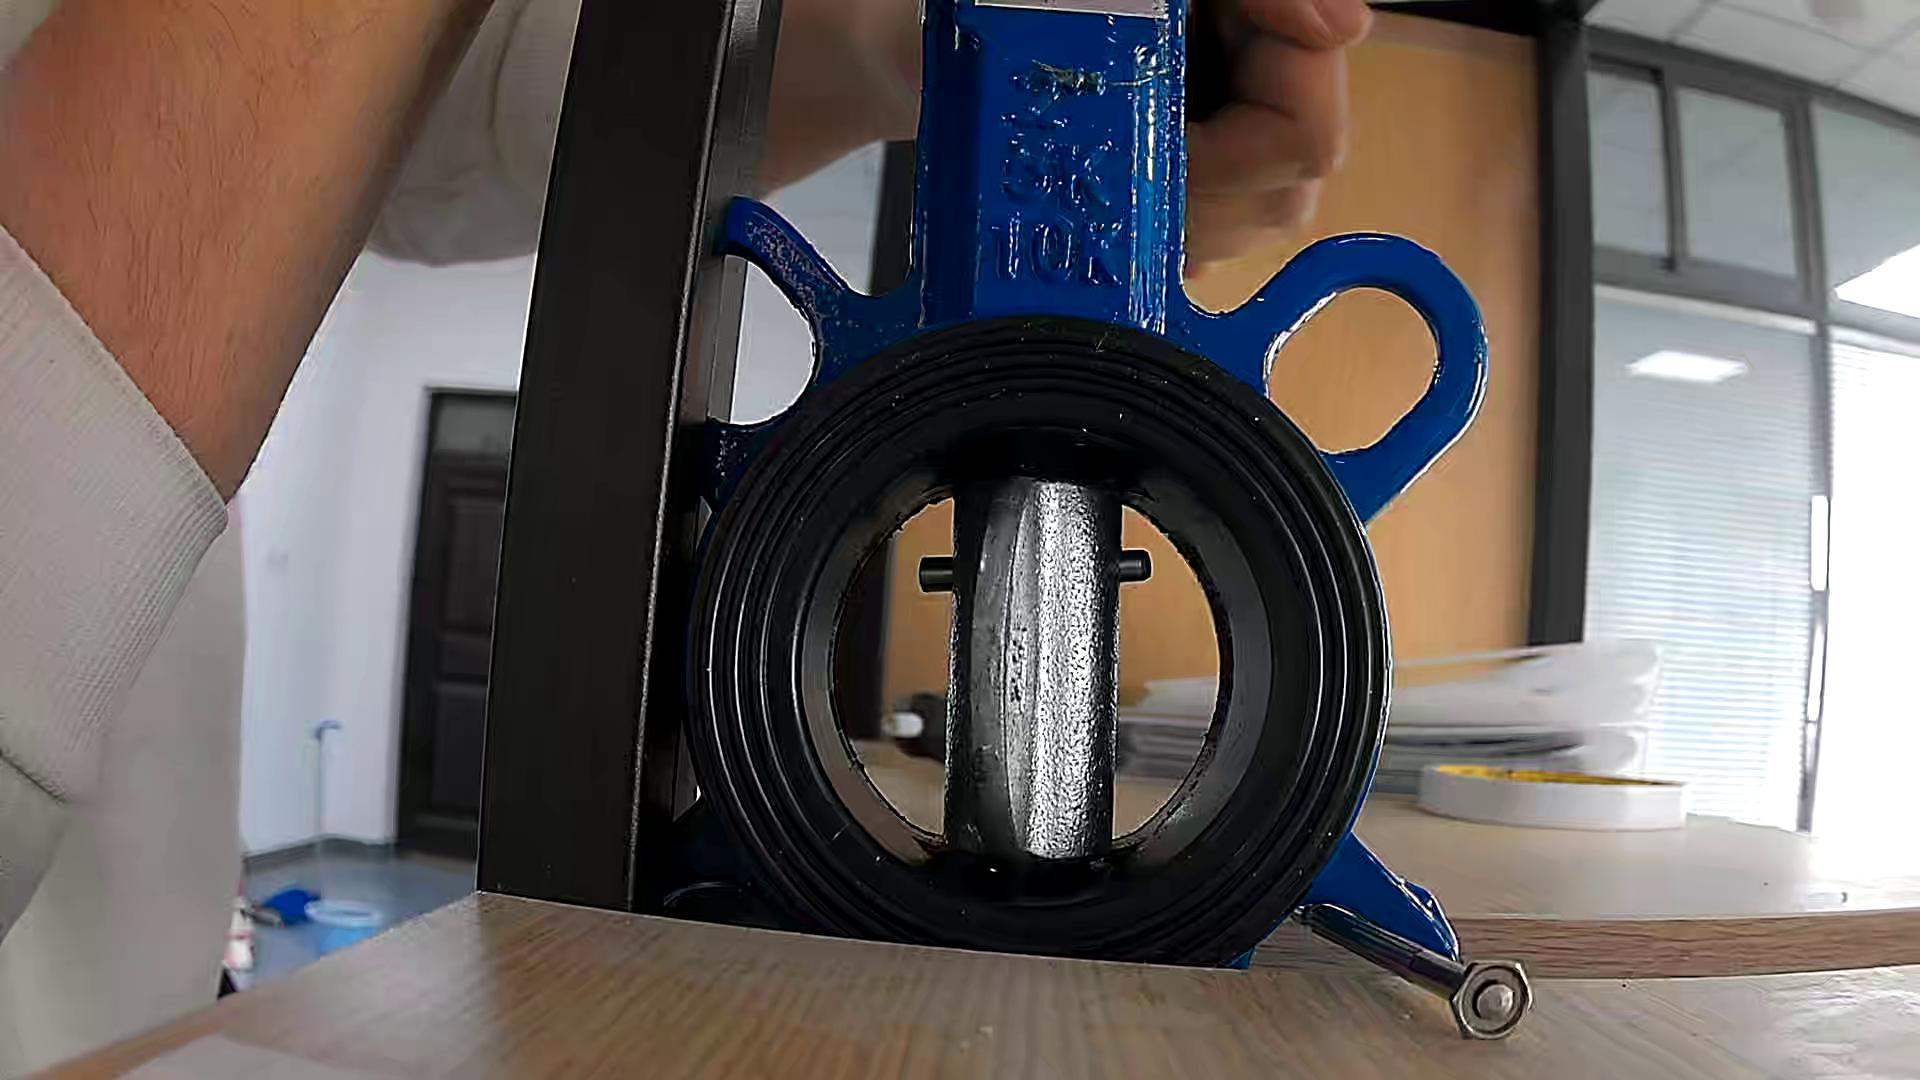valve: (924, 476, 1152, 859)
